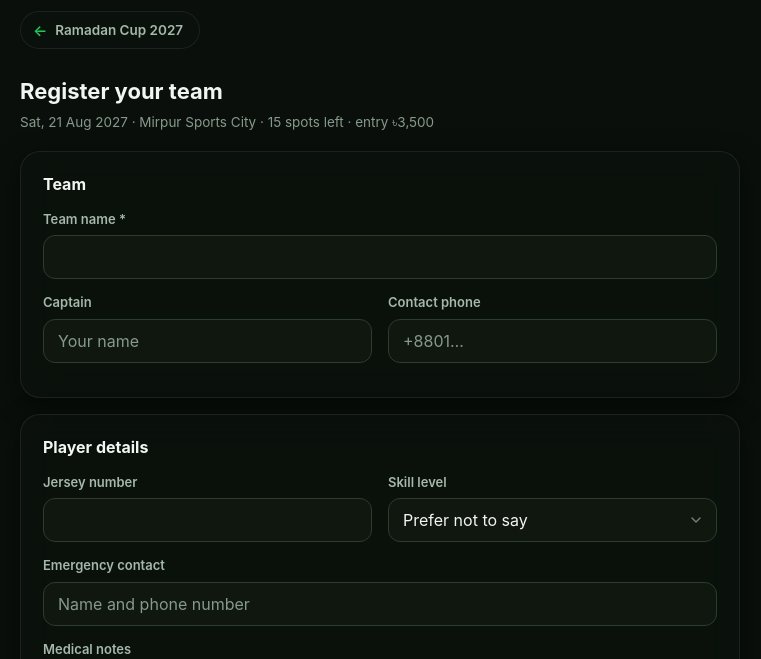
Scenario: TournamentRegisterPage › refuses to submit until the tournament rules are accepted
Expected: the heading "Register your team" is shown, x1=20 y1=78 x2=223 y2=104
Step 1. Type "Dhanmondi Strikers" into the field labelled "Team name *" → [380, 257], box x1=43 y1=235 x2=717 y2=279
(page scrolled)
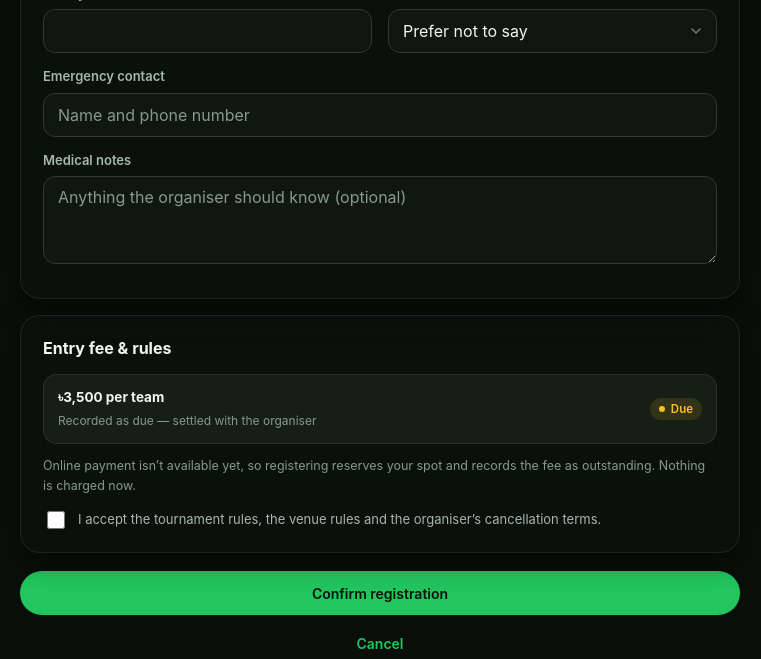
Step 2. Click the button "Confirm registration" → [380, 593], box x1=20 y1=571 x2=740 y2=615
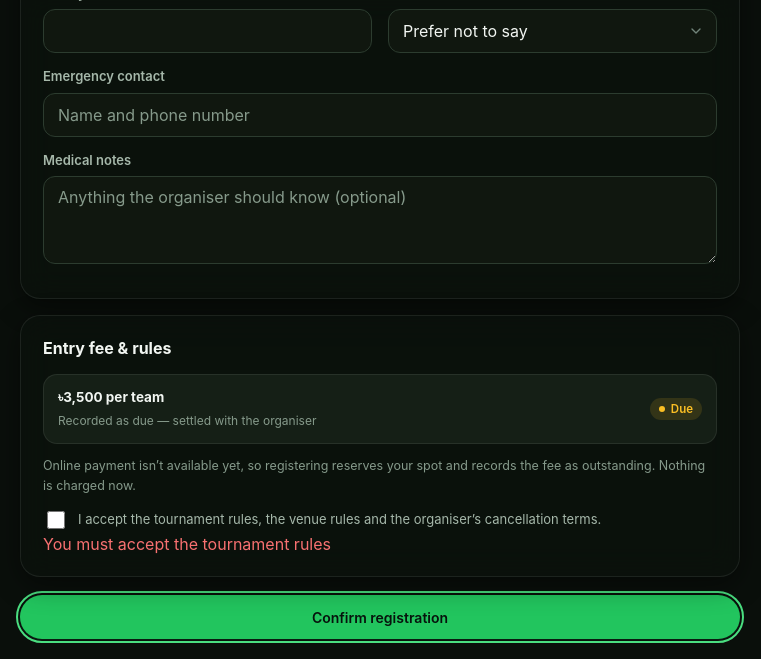
Result: the text "You must accept the tournament rules" is shown at x1=43 y1=534 x2=331 y2=554
